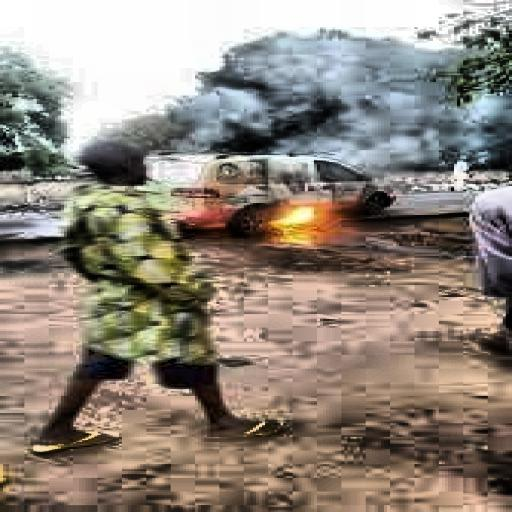fire: (262, 194, 348, 240)
